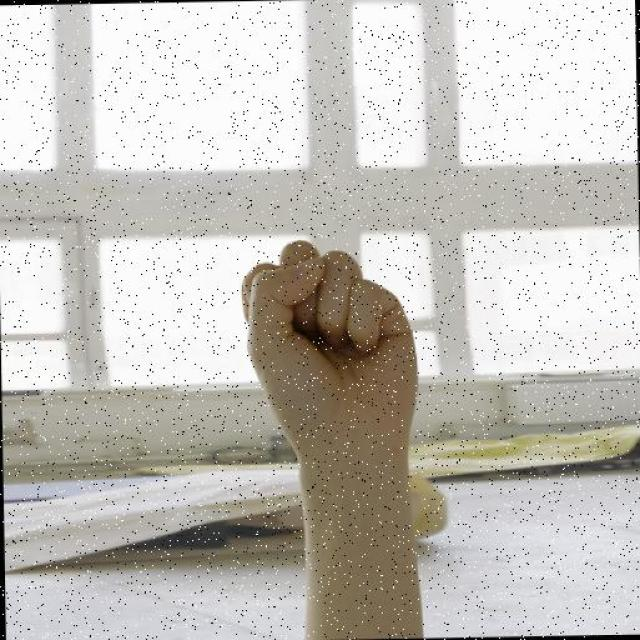S: (228, 236, 423, 474)
